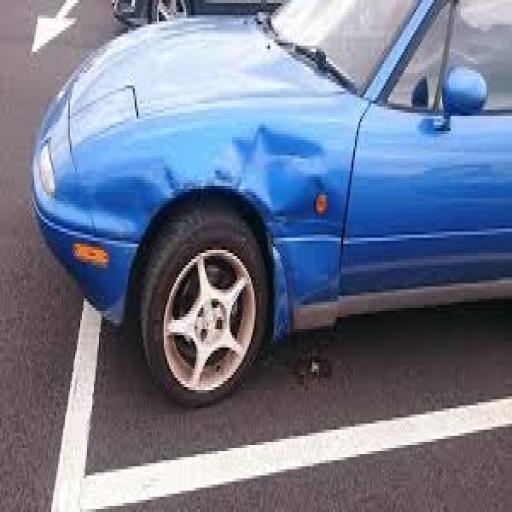dent: (0, 0, 510, 506), (106, 427, 510, 509)
